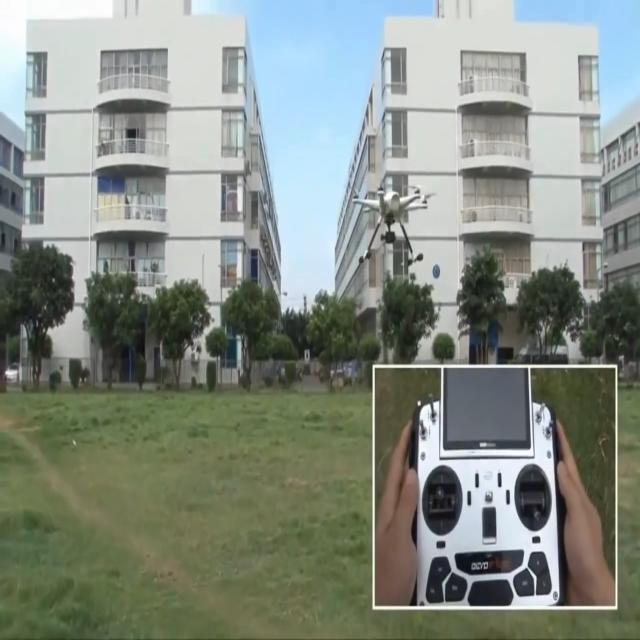drone: (352, 181, 436, 265)
